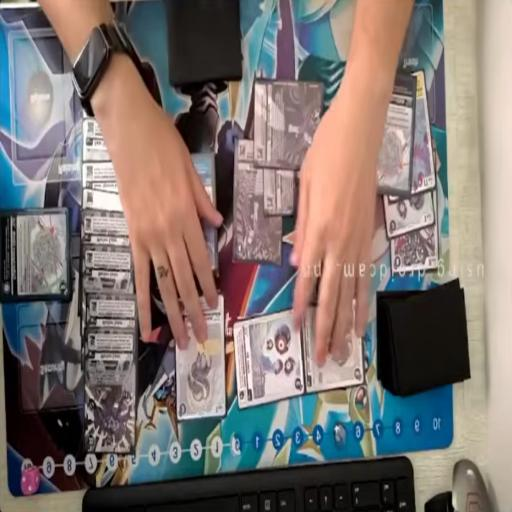card: (233, 307, 305, 410), (81, 328, 140, 453), (174, 293, 226, 425), (297, 299, 368, 395), (0, 206, 70, 302), (251, 78, 325, 168), (232, 133, 282, 265), (373, 73, 415, 199), (177, 147, 217, 276), (411, 64, 437, 193), (82, 247, 136, 301), (389, 219, 438, 276), (383, 188, 434, 238), (82, 206, 136, 246), (83, 295, 139, 330), (262, 169, 304, 215), (82, 119, 117, 171), (82, 160, 123, 200), (80, 186, 126, 220)
